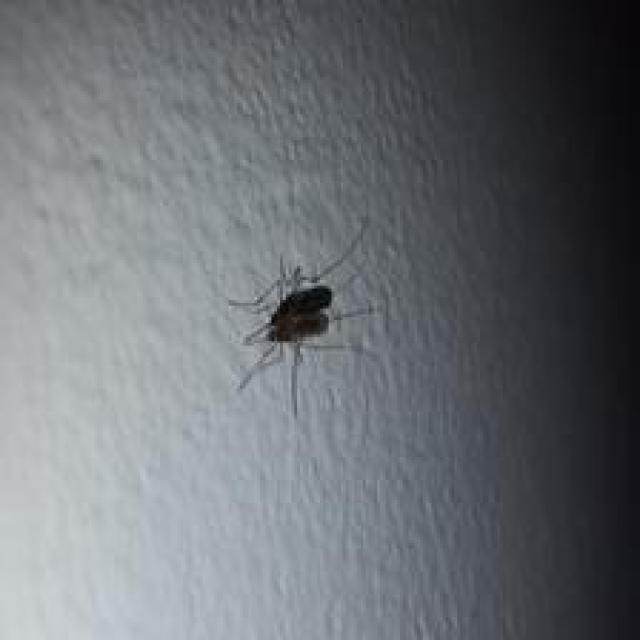Culex: (227, 218, 379, 418)
